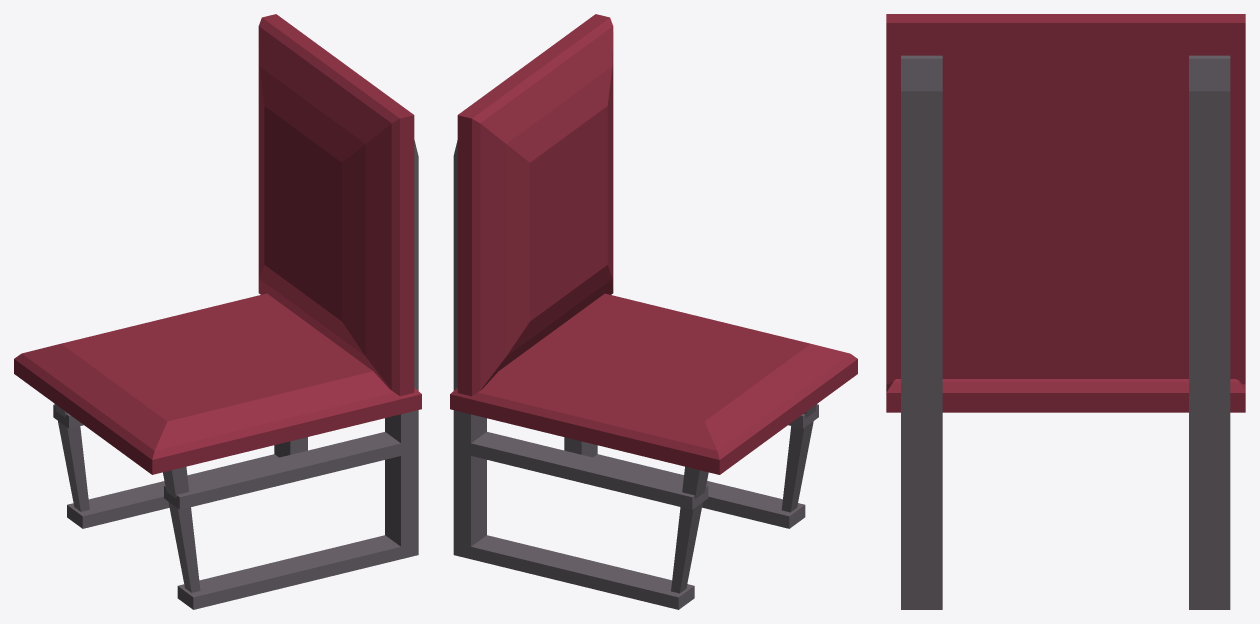
Rendered from SM_chair_01.fbx.
3 views of the same model, side by side, from view 1: azimuth 30°, elevation 25°; view 2: azimuth 150°, elevation 25°; view 3: azimuth 270°, elevation 25° (orthographic). The views are drawn at different scales.
Visible parts, largest first — view 1: chair_01; view 2: chair_01; view 3: chair_01.
Boxes of the visible parts, x1=… form: chair_01: x1=14, y1=14, x2=421, y2=609; chair_01: x1=450, y1=14, x2=857, y2=609; chair_01: x1=886, y1=14, x2=1245, y2=609.
Bounding box in the file's own units: 75.43 × 118 × 66.35.
